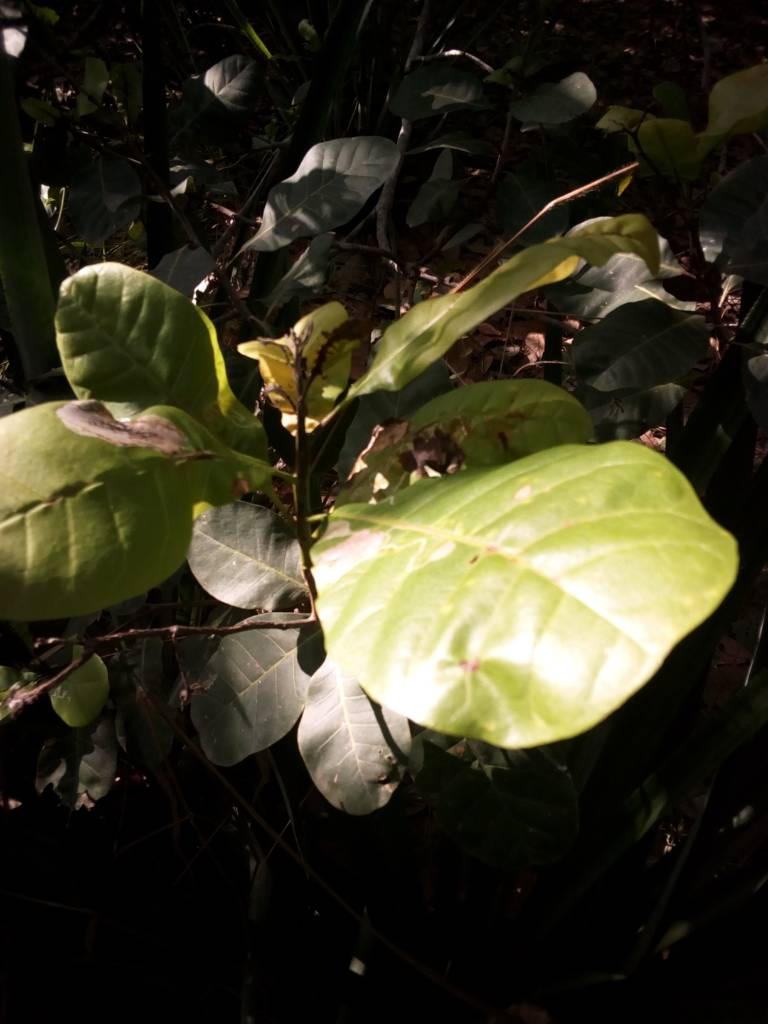Dessèchement des bourgeons: (258, 319, 366, 396)
